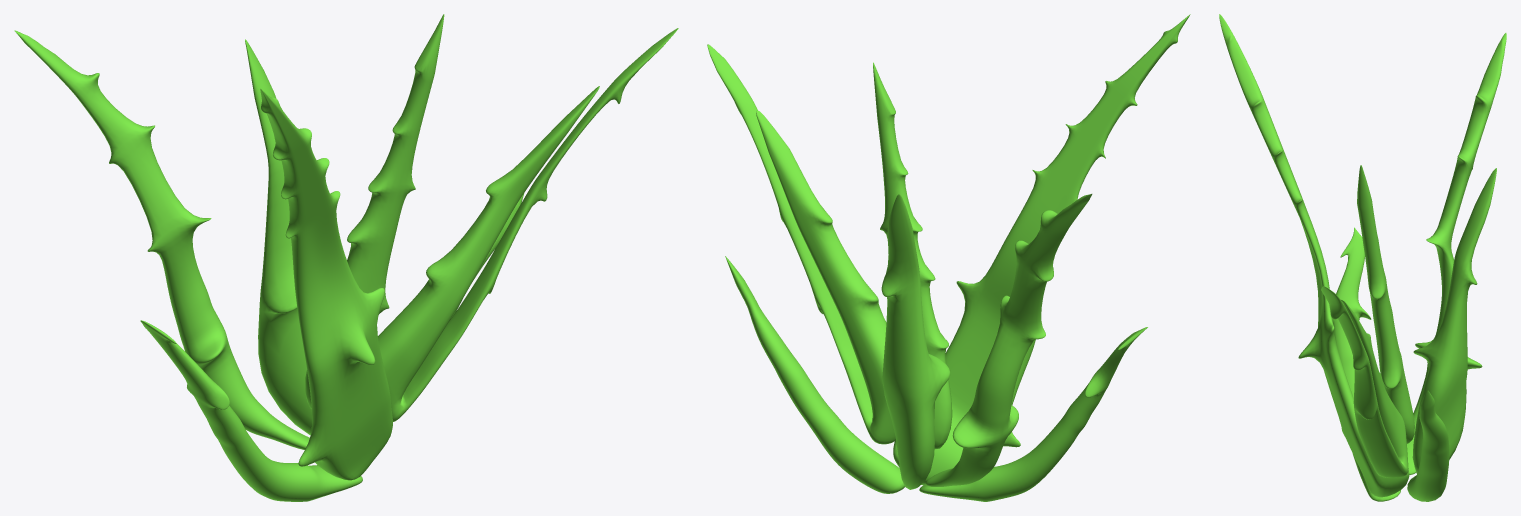
File: Aloe.fbx
3 views of the same model, side by side, from view 1: azimuth 30°, elevation 25°; view 2: azimuth 150°, elevation 25°; view 3: azimuth 270°, elevation 25° (orthographic). The views are drawn at different scales.
Visible parts, largest first — view 1: Aloe; view 2: Aloe; view 3: Aloe.
Part boxes in pixels (bbox=[...]): Aloe: bbox=[14, 14, 678, 501]; Aloe: bbox=[707, 14, 1190, 501]; Aloe: bbox=[1219, 14, 1506, 501].
Bounding box in the file's own units: 397 × 355 × 225.
